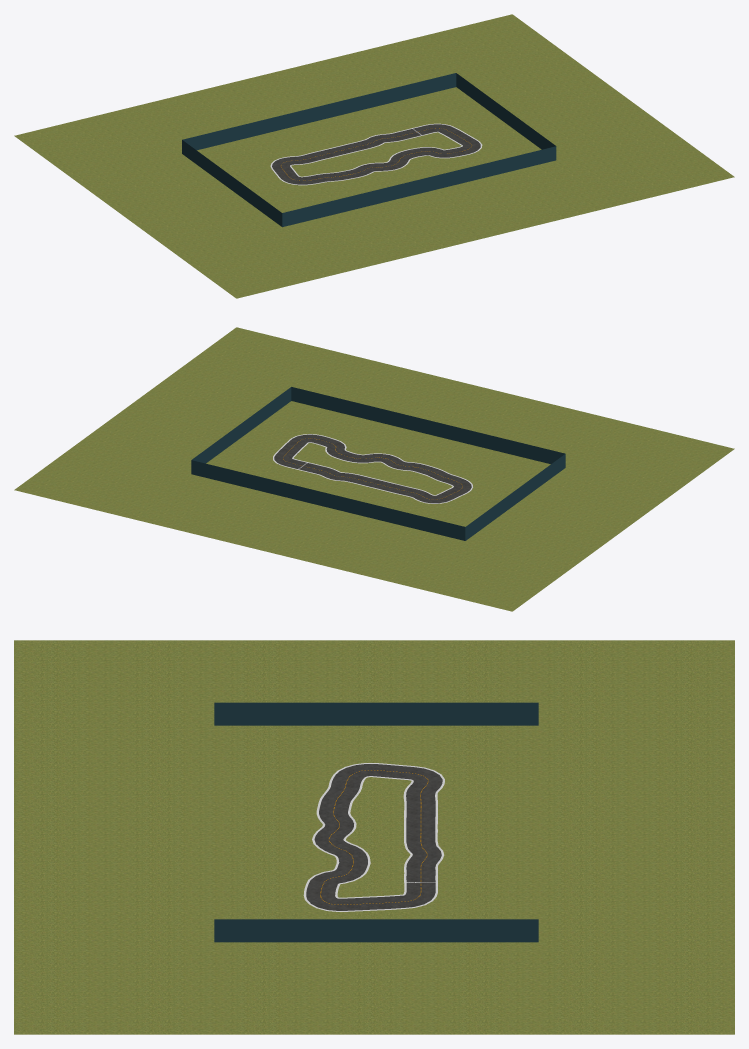
Rendered from 2022_summit_speedway_advanced.dae.
The picture shows the model from 3 angles, top to bottom: view 1: azimuth 30°, elevation 25°; view 2: azimuth 150°, elevation 25°; view 3: azimuth 270°, elevation 25°; orthographic projection. The views are drawn at different scales.
Parts seen in each view (by area): view 1: field, wall, road, il, ol; view 2: field, wall, road, il, ol; view 3: field, wall, road, il, ol.
Boxes of the visible parts, x1,y1,x2,y2 form: field: (14,14,734,298); wall: (182,73,556,227); road: (272,124,480,184); il: (270,123,482,185); ol: (290,131,462,177); field: (14,327,734,611); wall: (191,387,565,540); road: (274,434,471,503); il: (273,434,472,503); ol: (292,442,453,495); field: (14,640,734,1034); wall: (214,702,538,942); road: (306,764,442,910); il: (303,763,444,911); ol: (335,776,413,898).
Bounding box in the file's own units: 29.41 × 22.74 × 0.8.
7 materials, 7 textured.
